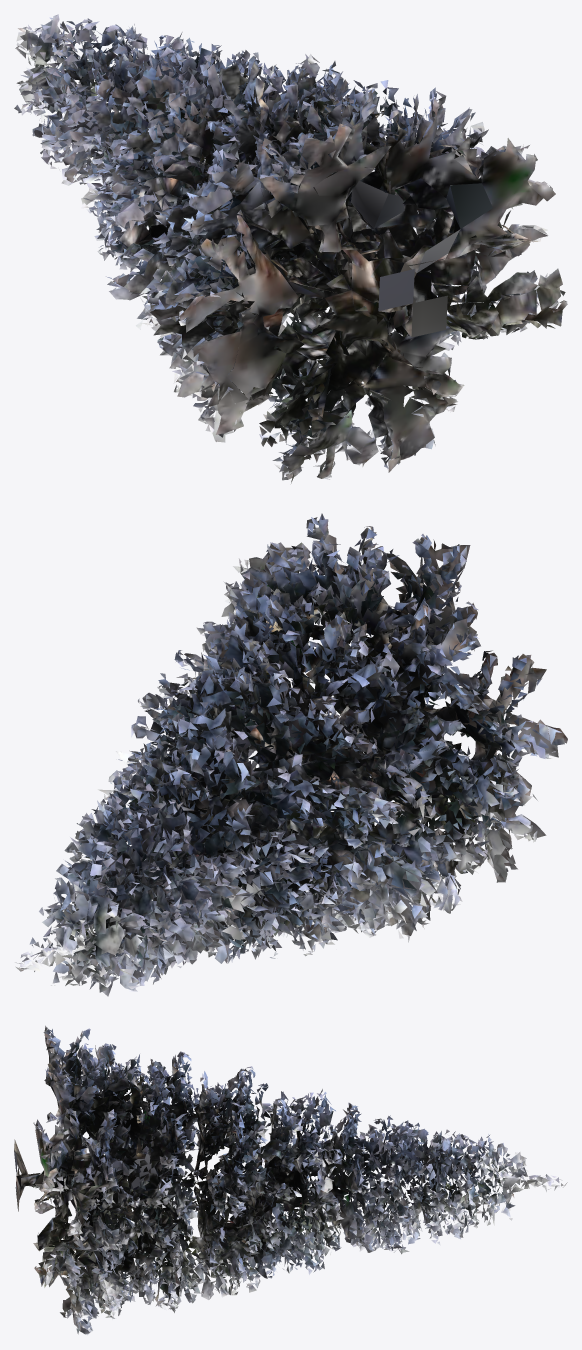
The model's file is fir.glb.
3 renders of one model, top to bottom at view 1: azimuth 30°, elevation 25°; view 2: azimuth 150°, elevation 25°; view 3: azimuth 270°, elevation 25°, orthographic. The views are drawn at different scales.
Visible parts, largest first — view 1: Object_2; view 2: Object_2; view 3: Object_2.
Boxes of the visible parts, x1,y1,x2,y2 form: Object_2: [14, 14, 567, 483]; Object_2: [15, 513, 567, 996]; Object_2: [14, 1025, 567, 1335].
Size of the model in its own units: 0.5497 by 0.5391 by 0.9972.
Materials: 1 (1 with a texture image).
